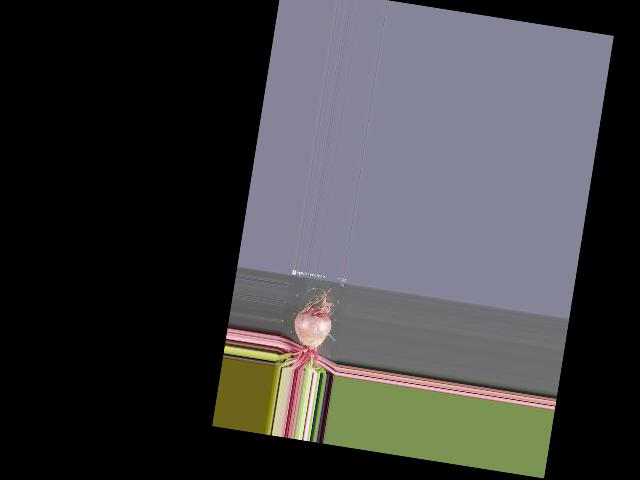beet: (274, 279, 338, 374)
